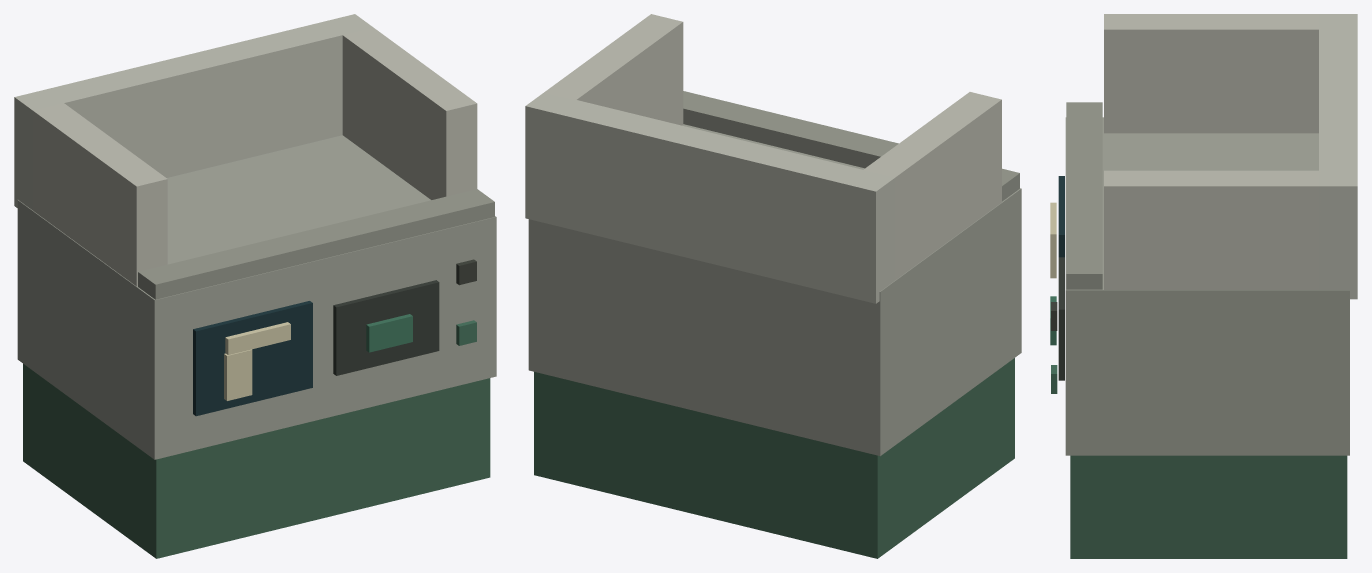
Rendered from CMU3DOpenHopperReagentGrinder.glb.
The picture shows the model from 3 angles, left to right: view 1: azimuth 30°, elevation 25°; view 2: azimuth 150°, elevation 25°; view 3: azimuth 270°, elevation 25°; orthographic projection. The views are drawn at different scales.
Visible parts, largest first — view 1: grinder metal body, grinder lower green body, grinder hopper side (×2), grinder rear hopper wall, front hopper lip, grinder left status screen, grinder dark right socket, green grinder socket center, cream grinder marking, cream grinder upper marking; view 2: grinder metal body, grinder lower green body, grinder rear hopper wall, grinder hopper side (×2), front hopper lip; view 3: grinder metal body, grinder hopper side (×2), grinder lower green body, grinder rear hopper wall, front hopper lip, grinder dark right socket, grinder left status screen.
Boxes of the visible parts, left/top/right/bottom form: grinder metal body: left=17, top=135, right=496, bottom=459; grinder lower green body: left=23, top=364, right=490, bottom=558; grinder hopper side (×2): left=32, top=27, right=477, bottom=286; grinder rear hopper wall: left=14, top=14, right=373, bottom=210; front hopper lip: left=138, top=189, right=494, bottom=299; grinder left status screen: left=193, top=301, right=312, bottom=416; grinder dark right socket: left=333, top=280, right=439, bottom=375; green grinder socket center: left=366, top=314, right=412, bottom=352; cream grinder marking: left=224, top=349, right=252, bottom=400; cream grinder upper marking: left=225, top=322, right=290, bottom=354; grinder metal body: left=528, top=124, right=1021, bottom=456; grinder lower green body: left=534, top=358, right=1014, bottom=558; grinder rear hopper wall: left=525, top=92, right=895, bottom=303; grinder hopper side (×2): left=544, top=14, right=1001, bottom=279; front hopper lip: left=683, top=91, right=1019, bottom=201; grinder metal body: left=1065, top=117, right=1349, bottom=455; grinder hopper side (×2): left=1104, top=14, right=1320, bottom=289; grinder lower green body: left=1070, top=455, right=1347, bottom=558; grinder rear hopper wall: left=1319, top=14, right=1357, bottom=299; front hopper lip: left=1066, top=102, right=1102, bottom=289; grinder dark right socket: left=1058, top=257, right=1064, bottom=380; grinder left status screen: left=1058, top=176, right=1064, bottom=257.
Size of the model in its own units: 0.594 by 0.6 by 0.446.
